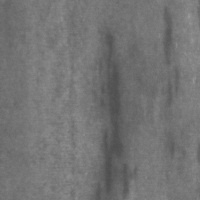inclusion: (95, 29, 135, 200), (155, 4, 179, 69), (161, 64, 184, 112)
